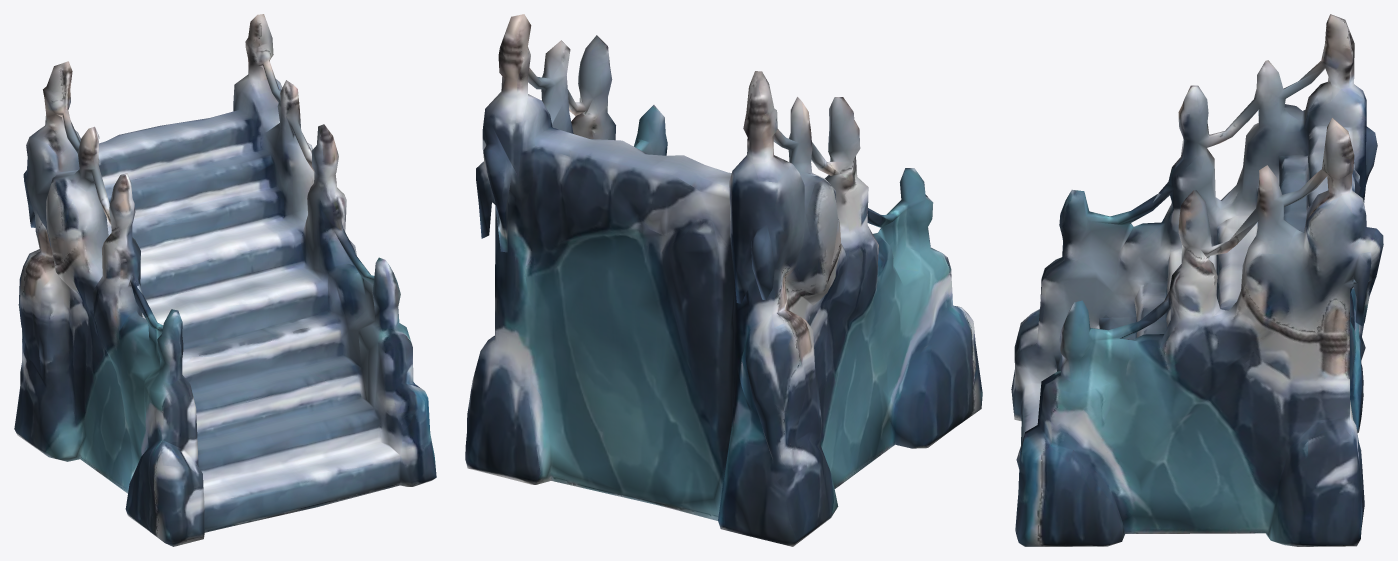
The model's file is SM_Tripo_FrostSeaStairs.glb.
The picture shows the model from 3 angles, left to right: view 1: azimuth 30°, elevation 25°; view 2: azimuth 150°, elevation 25°; view 3: azimuth 270°, elevation 25°; orthographic projection. The views are drawn at different scales.
Visible parts, largest first — view 1: SM_Tripo_FrostSeaStairs_LOD0; view 2: SM_Tripo_FrostSeaStairs_LOD0; view 3: SM_Tripo_FrostSeaStairs_LOD0.
Boxes of the visible parts, x1,y1,x2,y2 form: SM_Tripo_FrostSeaStairs_LOD0: (14,14,436,546); SM_Tripo_FrostSeaStairs_LOD0: (465,14,982,546); SM_Tripo_FrostSeaStairs_LOD0: (1011,14,1383,546).
Size of the model in its own units: 2.24 by 2.88 by 2.36.
Materials: 1 (1 with a texture image).
